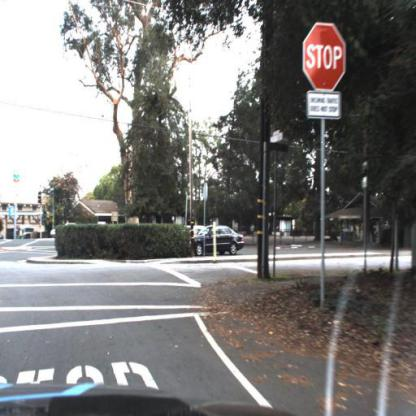car: (193, 221, 247, 263)
